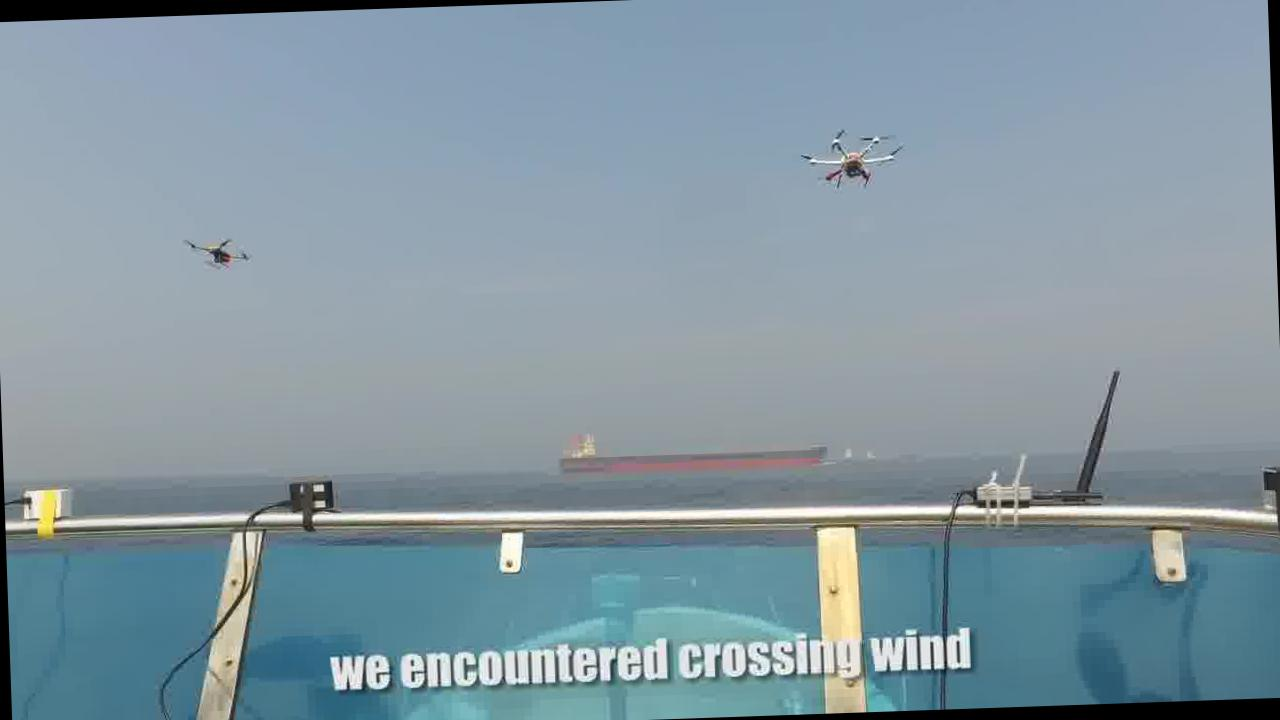drone: (796, 121, 900, 192), (186, 233, 252, 270)
